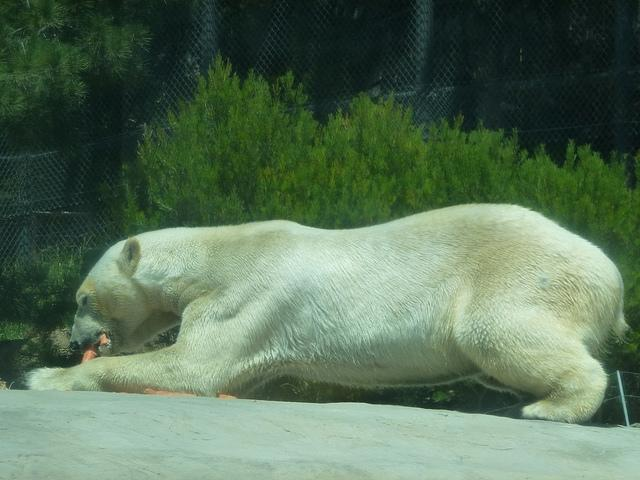carrot: (142, 389, 197, 396), (81, 343, 98, 364), (217, 394, 238, 400)
